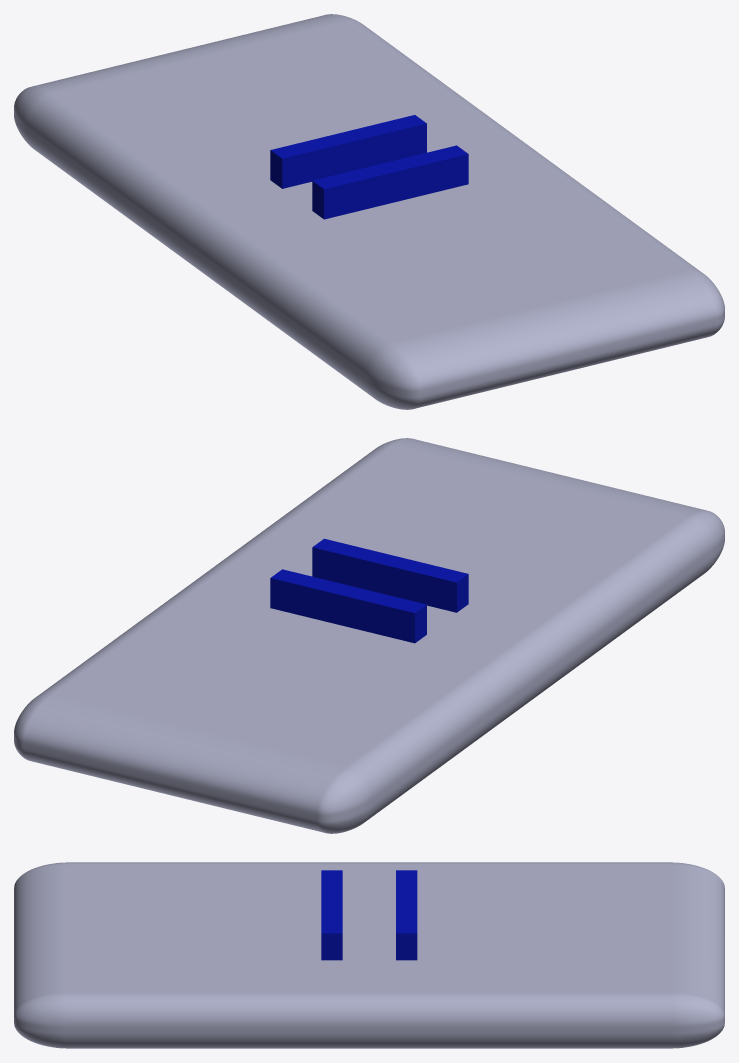
Rendered from ButtonEquals.glb.
3 views of the same model, one above another, from view 1: azimuth 30°, elevation 25°; view 2: azimuth 150°, elevation 25°; view 3: azimuth 270°, elevation 25° (orthographic). The views are drawn at different scales.
Visible parts, largest first — view 1: Box, 3D Text - =; view 2: Box, 3D Text - =; view 3: Box, 3D Text - =.
Boxes of the visible parts, left/top/right/bottom form: Box: left=14, top=14, right=724, bottom=409; 3D Text - =: left=270, top=115, right=468, bottom=219; Box: left=14, top=438, right=724, bottom=833; 3D Text - =: left=270, top=538, right=468, bottom=643; Box: left=14, top=862, right=724, bottom=1048; 3D Text - =: left=321, top=870, right=417, bottom=960.
Size of the model in its own units: 0.1 by 0.0249 by 0.2.
